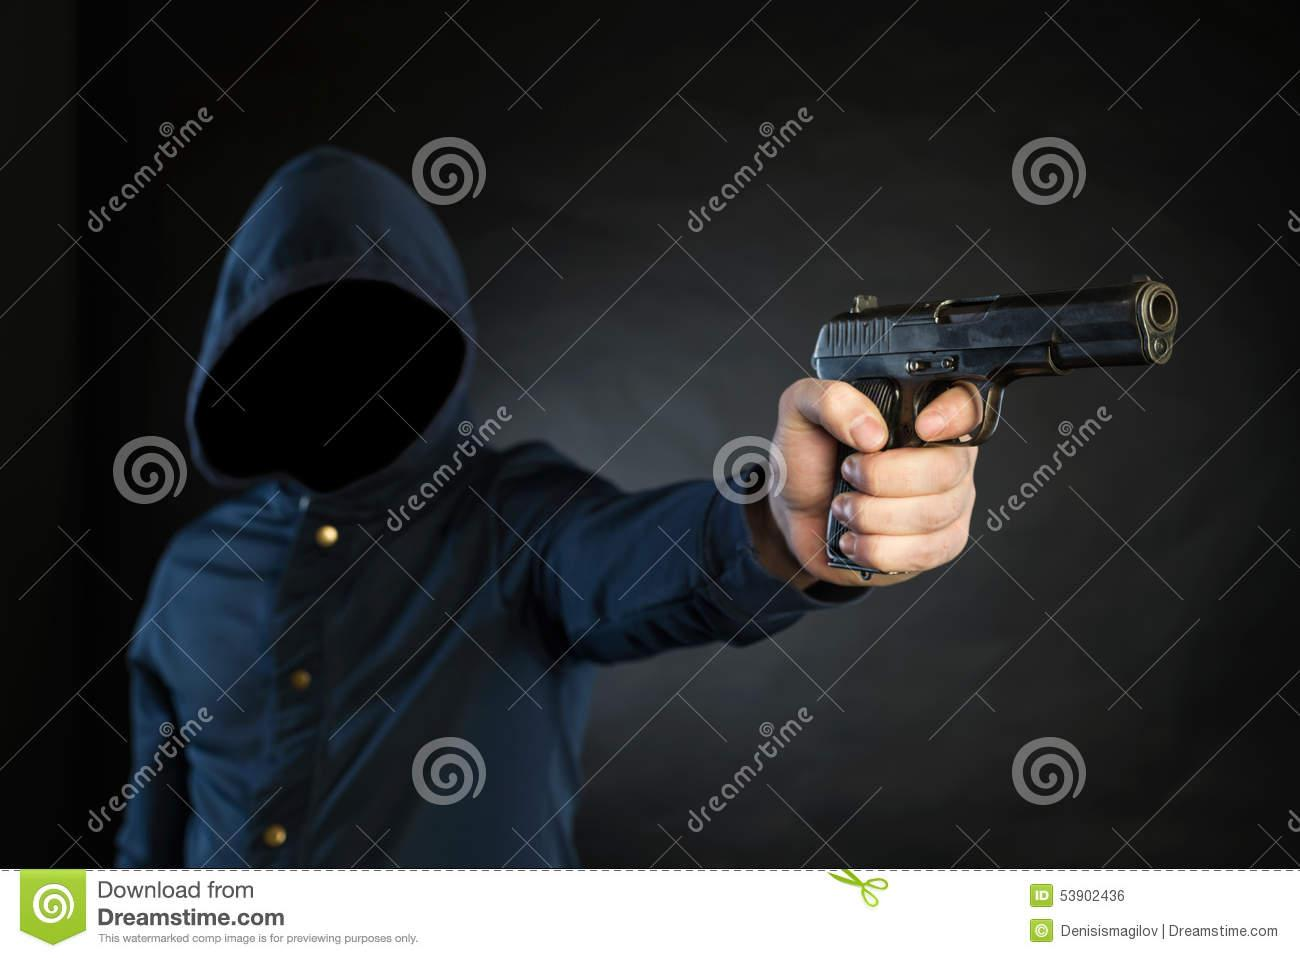criminal: (117, 150, 1182, 866)
weapon: (813, 272, 1180, 581)
